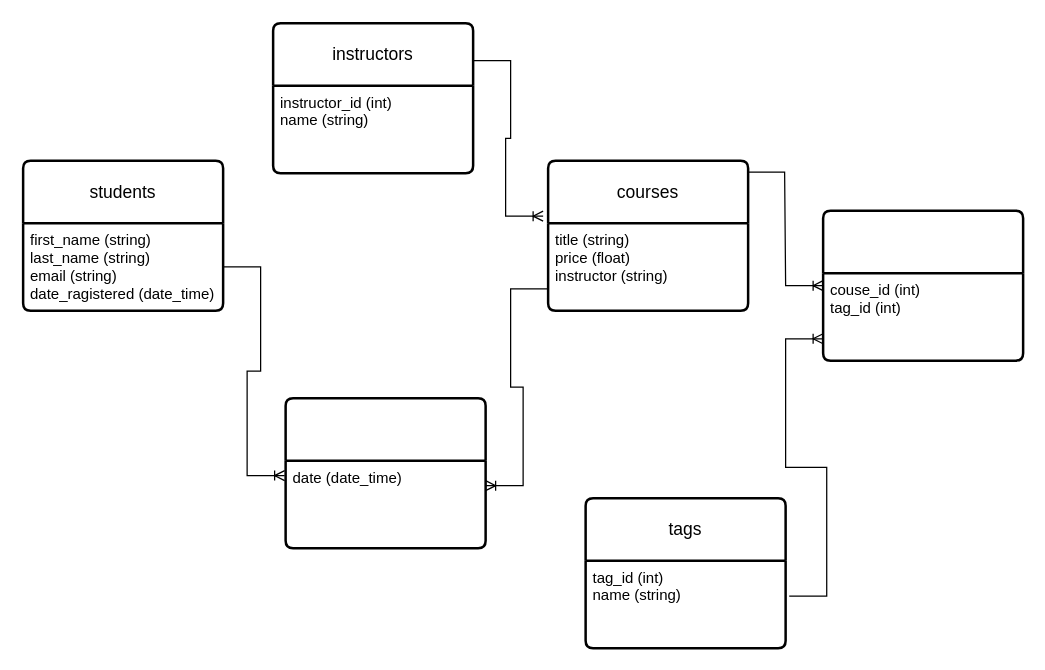
The diagram is 1045 pixels wide and 670 high, and some of its shapes have lost their labels. Here are the shapes that lost their labels. From the top down, the box of each, then its label:
(821, 209, 1024, 361): course_tags
(284, 396, 486, 549): enrolments
